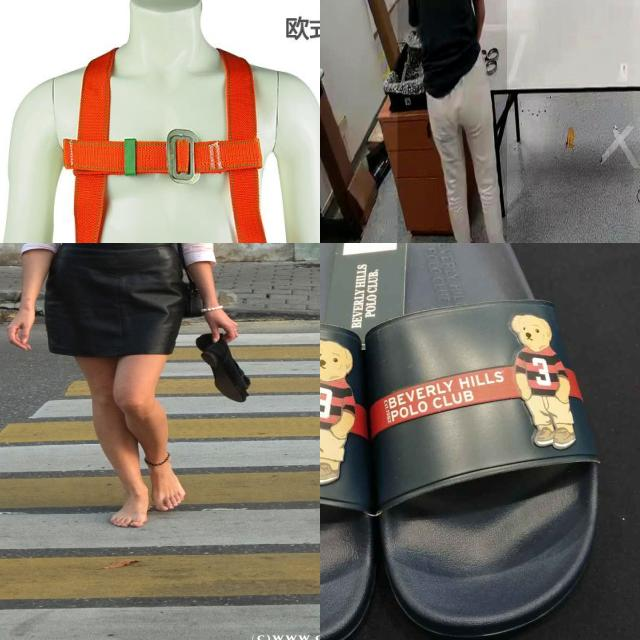Barefoots: (145, 458, 186, 511), (110, 488, 151, 527)
Harness: (47, 51, 290, 243)
Sandals: (320, 243, 620, 640)
person: (397, 0, 507, 243)
shoes: (454, 227, 479, 243)
